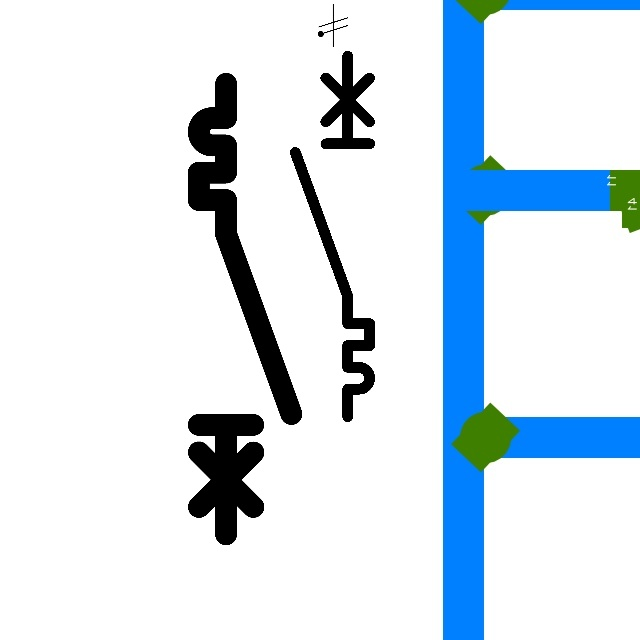interruptor_termomagnetico: (187, 72, 303, 546), (286, 46, 379, 425)
